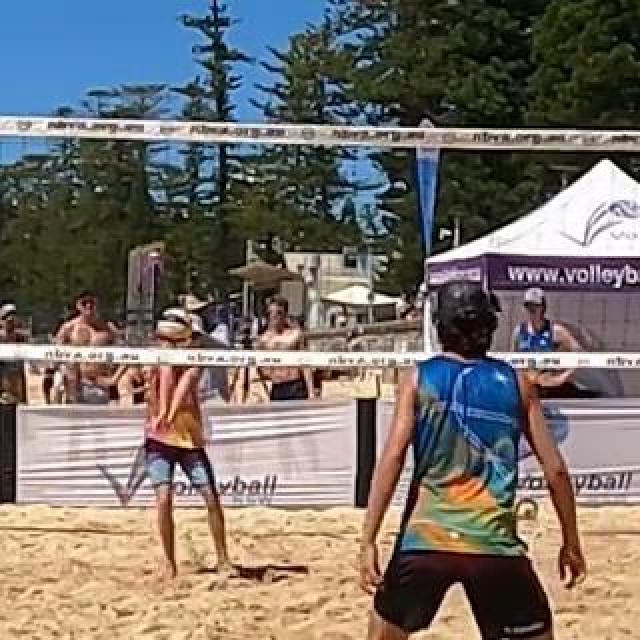volleyball: (153, 305, 193, 347), (513, 495, 537, 523)
